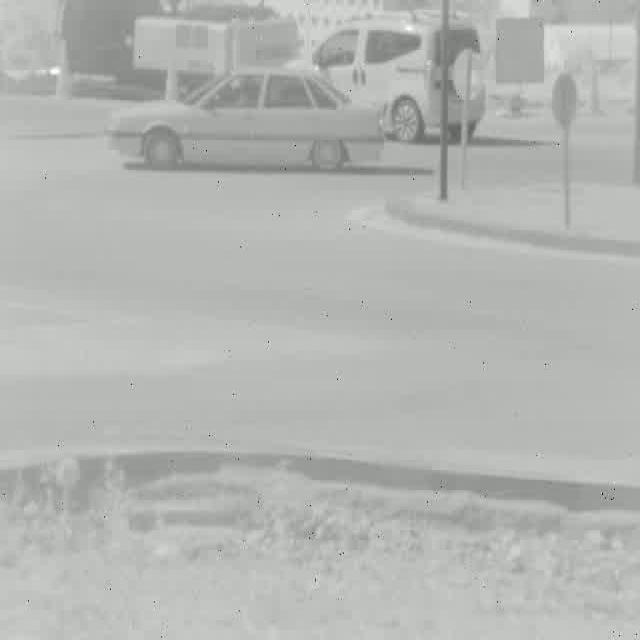Car: (105, 71, 378, 168), (303, 15, 480, 136)
